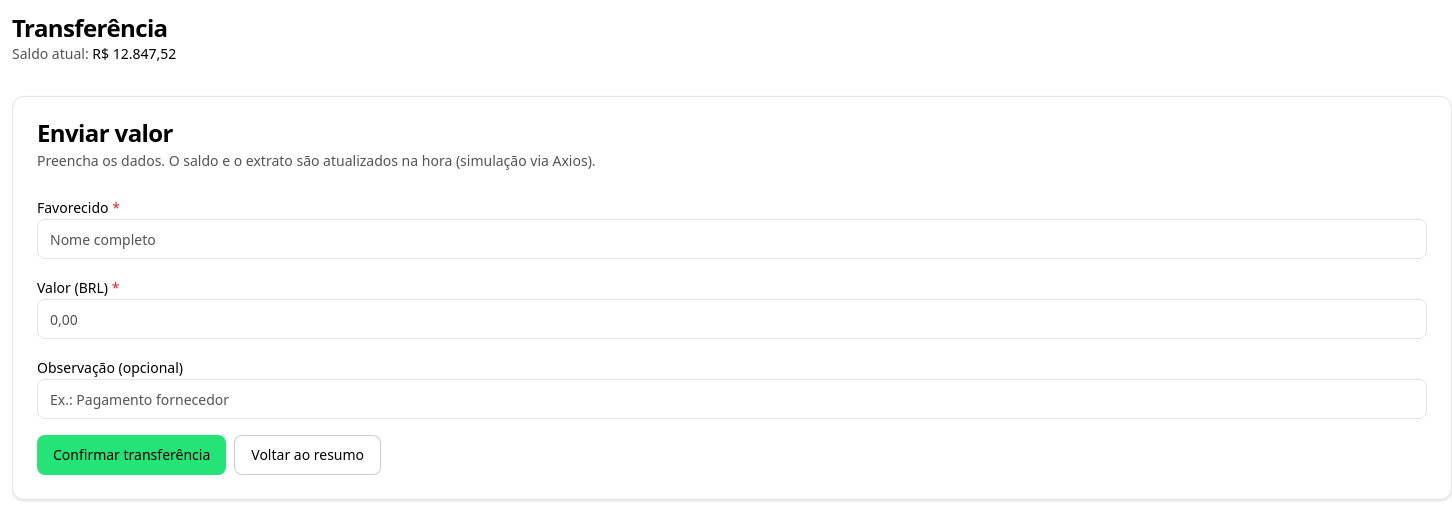
Test: TransferPage › formata o valor com máscara BRL (milhar e duas decimais)
Type "123456" into the field labelled "Valor (BRL) *" at (732, 319), box [37,299,1427,339]
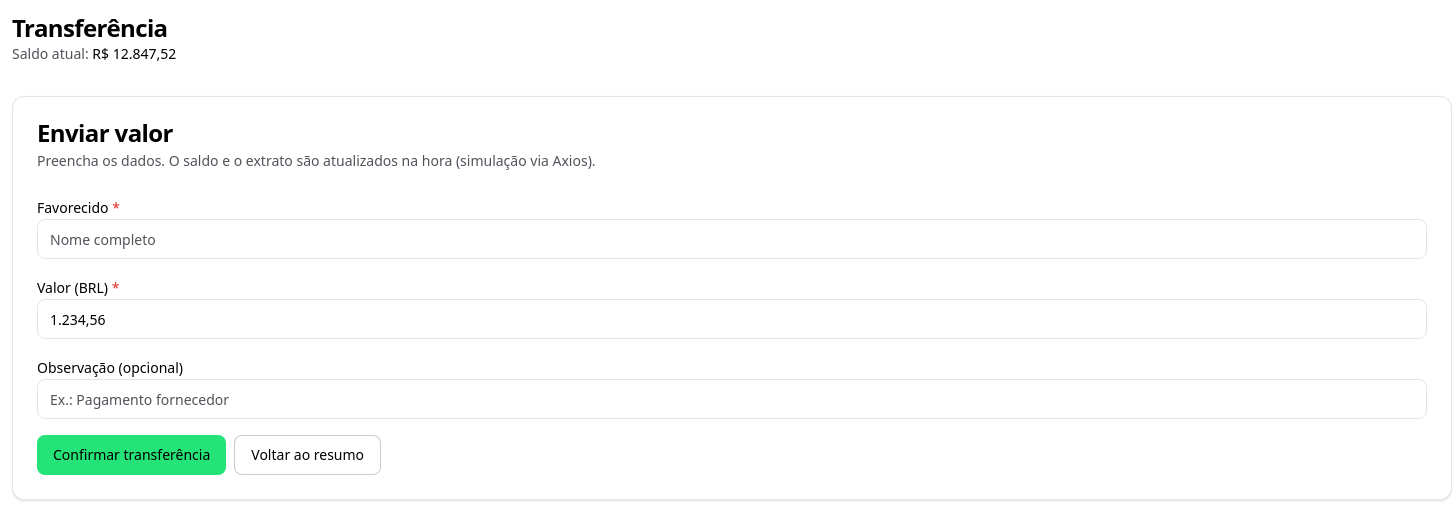
Expected: the field labelled "Valor (BRL) *" holds "1.234,56"
Replace the text in the field labelled "Valor (BRL) *" with "1000" at (732, 319), box [37,299,1427,339]
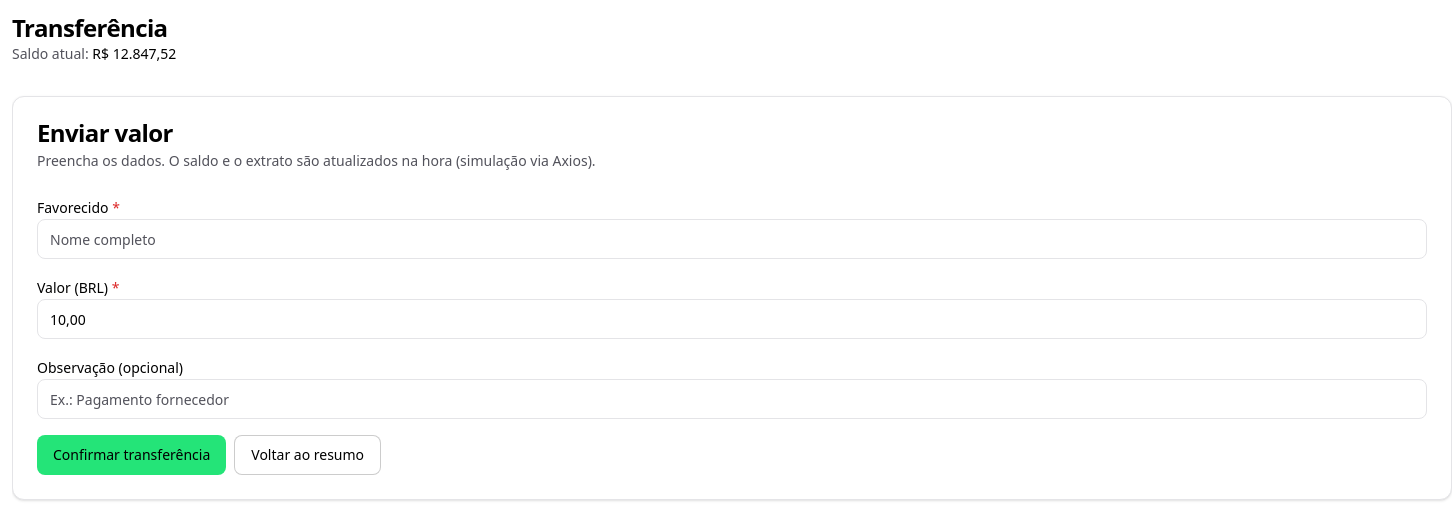
Expected: the field labelled "Valor (BRL) *" holds "10,00", [37,299,1427,339]
